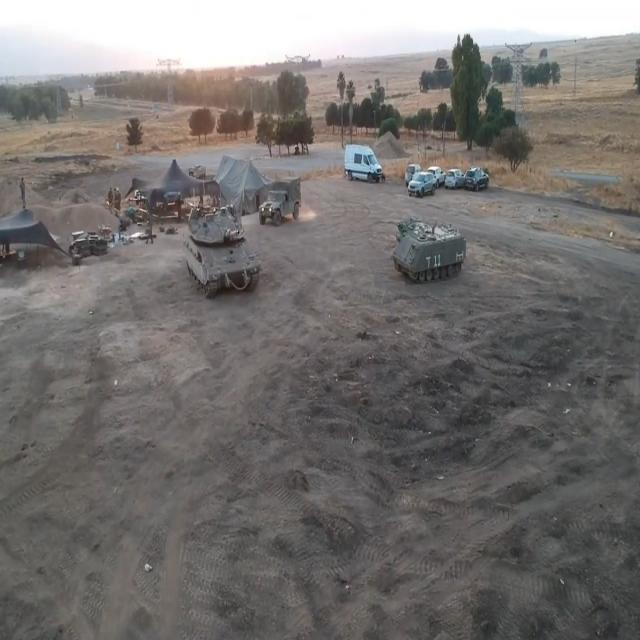tank: (183, 210, 270, 296)
